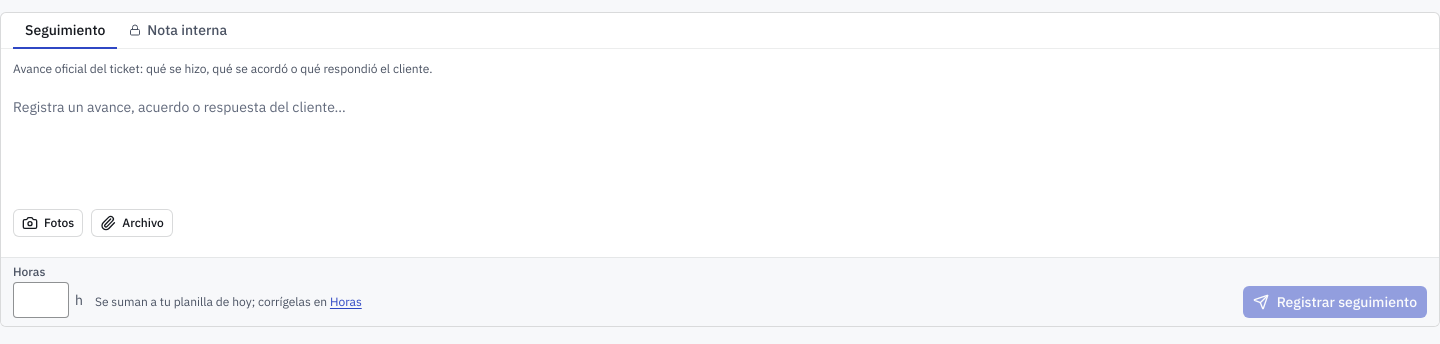
alterna entre seguimiento y nota interna y deshabilita el botón sin texto
Expected: the button "Registrar seguimiento" is disabled, [1243, 286, 1427, 318]
Click the button "Nota interna": (178, 31) [117, 13, 239, 49]
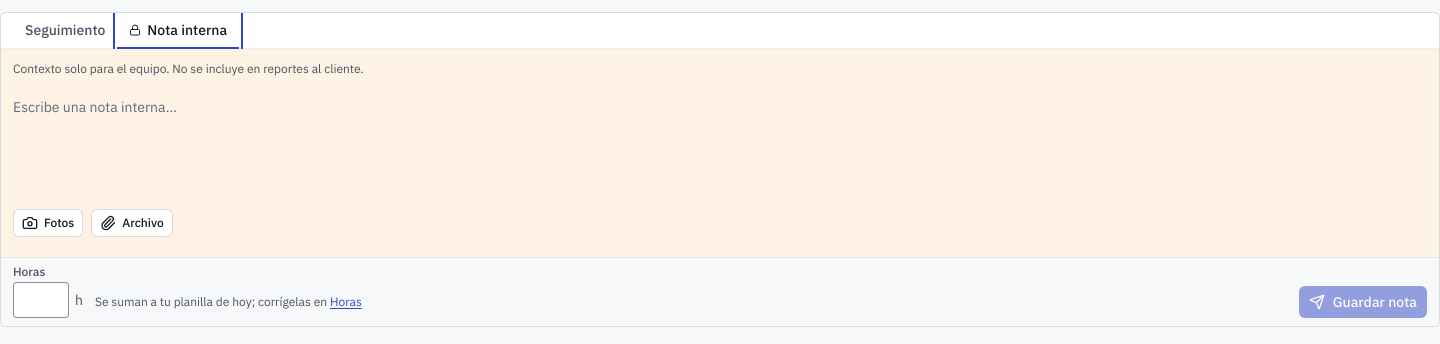
Expected: the button "Guardar nota" is disabled, [1299, 286, 1427, 318]
Result: the text "Contexto solo para el equipo" is shown at [13, 61, 364, 76]
In the text box named "Texto del mensaje": (720, 143) [13, 89, 1427, 197], type "Algo"
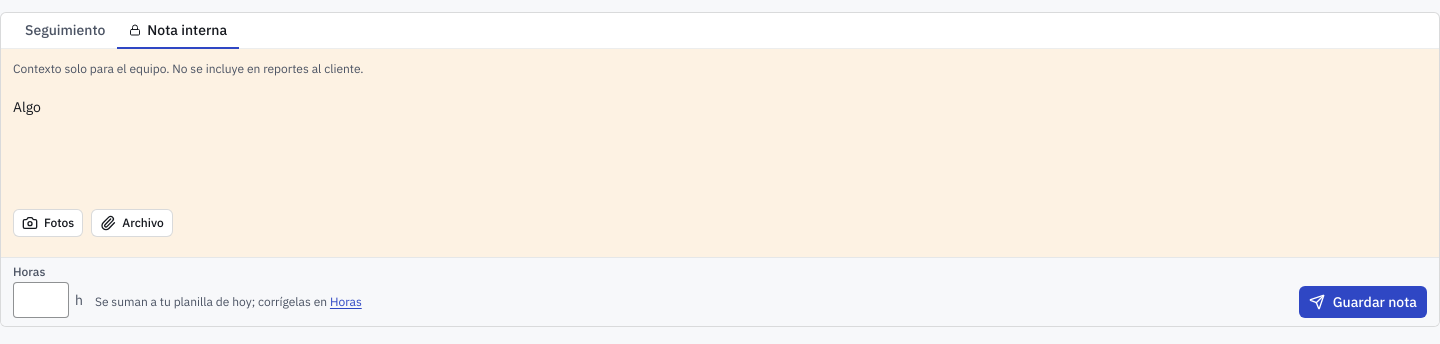
Result: the button "Guardar nota" is enabled at [1299, 286, 1427, 318]
